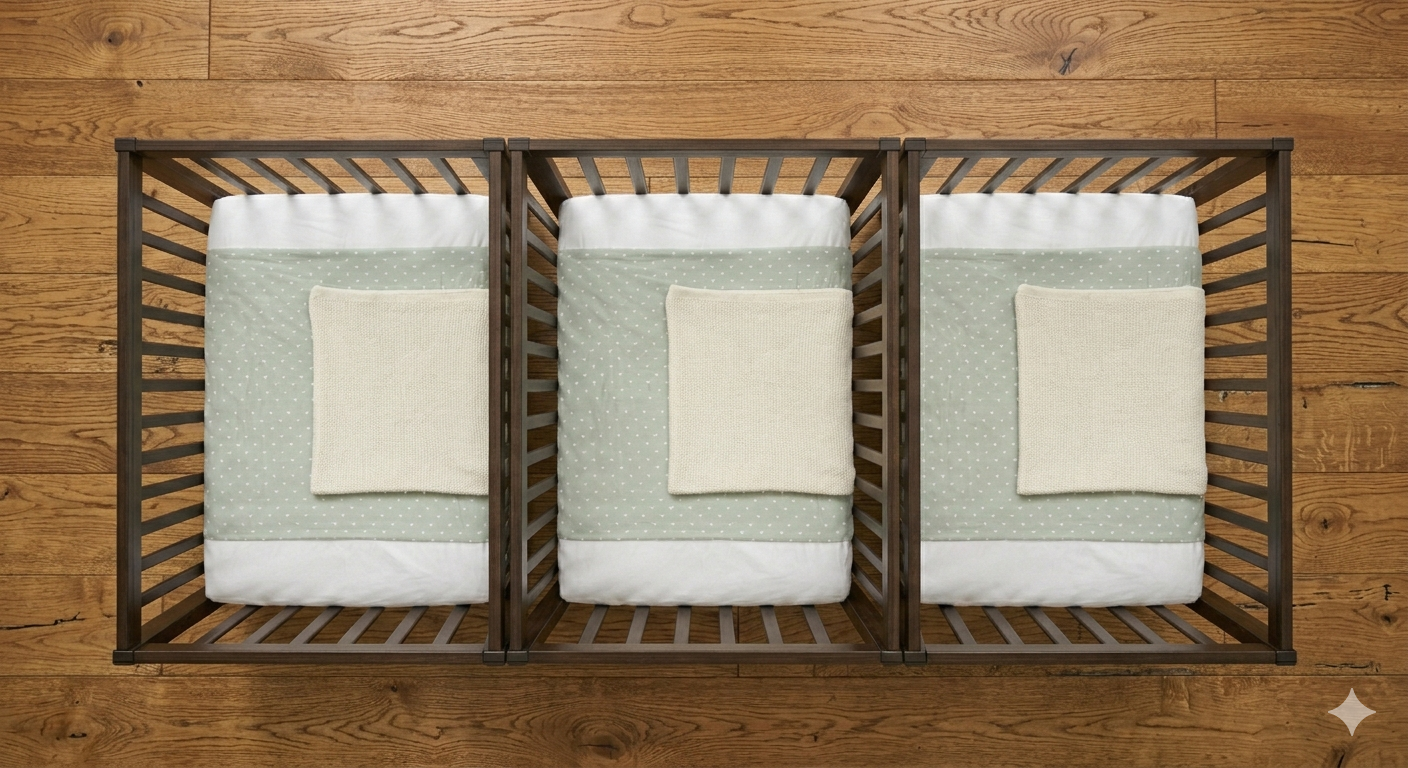crib: (114, 139, 508, 662), (579, 196, 855, 546), (935, 239, 1208, 549)
